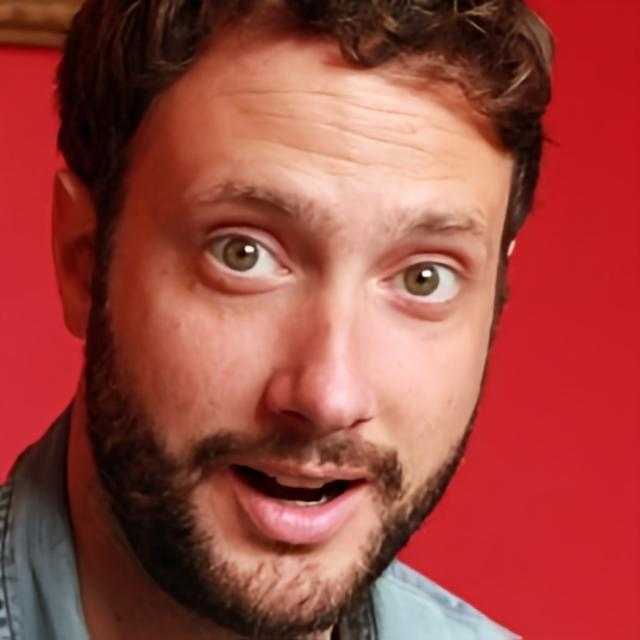surprise: (96, 3, 520, 633)
